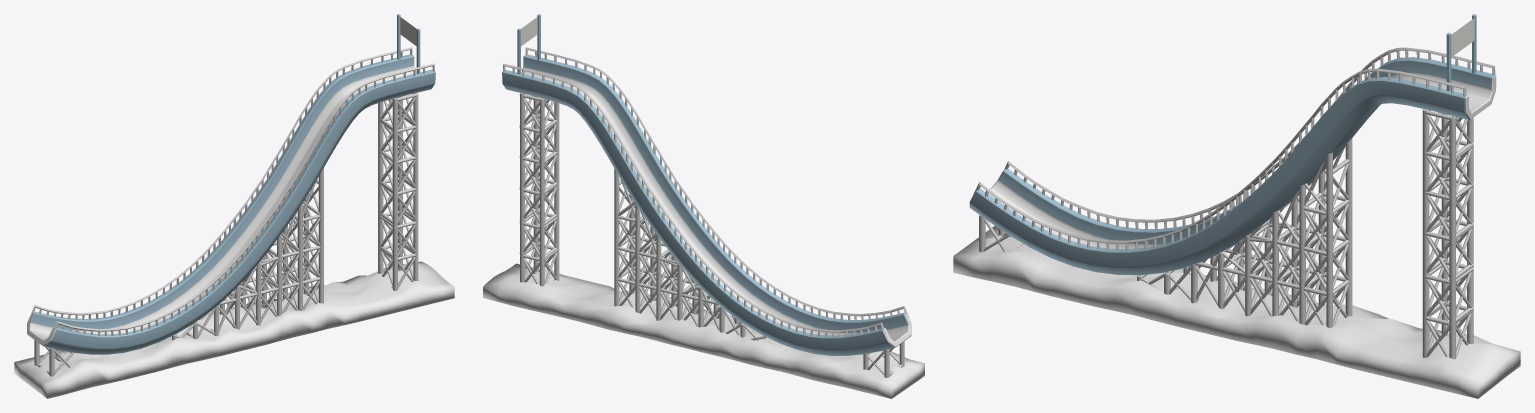
The model's file is Jump.fbx.
The picture shows the model from 3 angles, left to right: view 1: azimuth 30°, elevation 25°; view 2: azimuth 150°, elevation 25°; view 3: azimuth 330°, elevation 25°; orthographic projection. The views are drawn at different scales.
Visible parts, largest first — view 1: JumpBody, SnowBelow, SkiJump_Structure, handle, pole; view 2: JumpBody, SkiJump_Structure, SnowBelow, handle; view 3: SkiJump_Structure, SnowBelow, JumpBody, handle, pole, Plane.
Part boxes in pixels (x1,y1,x2,y2): JumpBody: [27, 54, 435, 354]; SnowBelow: [14, 261, 454, 398]; SkiJump_Structure: [34, 93, 418, 376]; handle: [30, 47, 434, 335]; pole: [397, 14, 420, 73]; JumpBody: [502, 54, 911, 355]; SkiJump_Structure: [519, 93, 904, 377]; SnowBelow: [483, 263, 924, 398]; handle: [503, 47, 909, 337]; SkiJump_Structure: [979, 109, 1473, 359]; SnowBelow: [953, 226, 1520, 398]; JumpBody: [969, 57, 1496, 275]; handle: [973, 47, 1495, 251]; pole: [1446, 14, 1476, 91]; Plane: [1451, 18, 1474, 57].
Bounding box in the file's own units: 10921 × 6993 × 1575.
